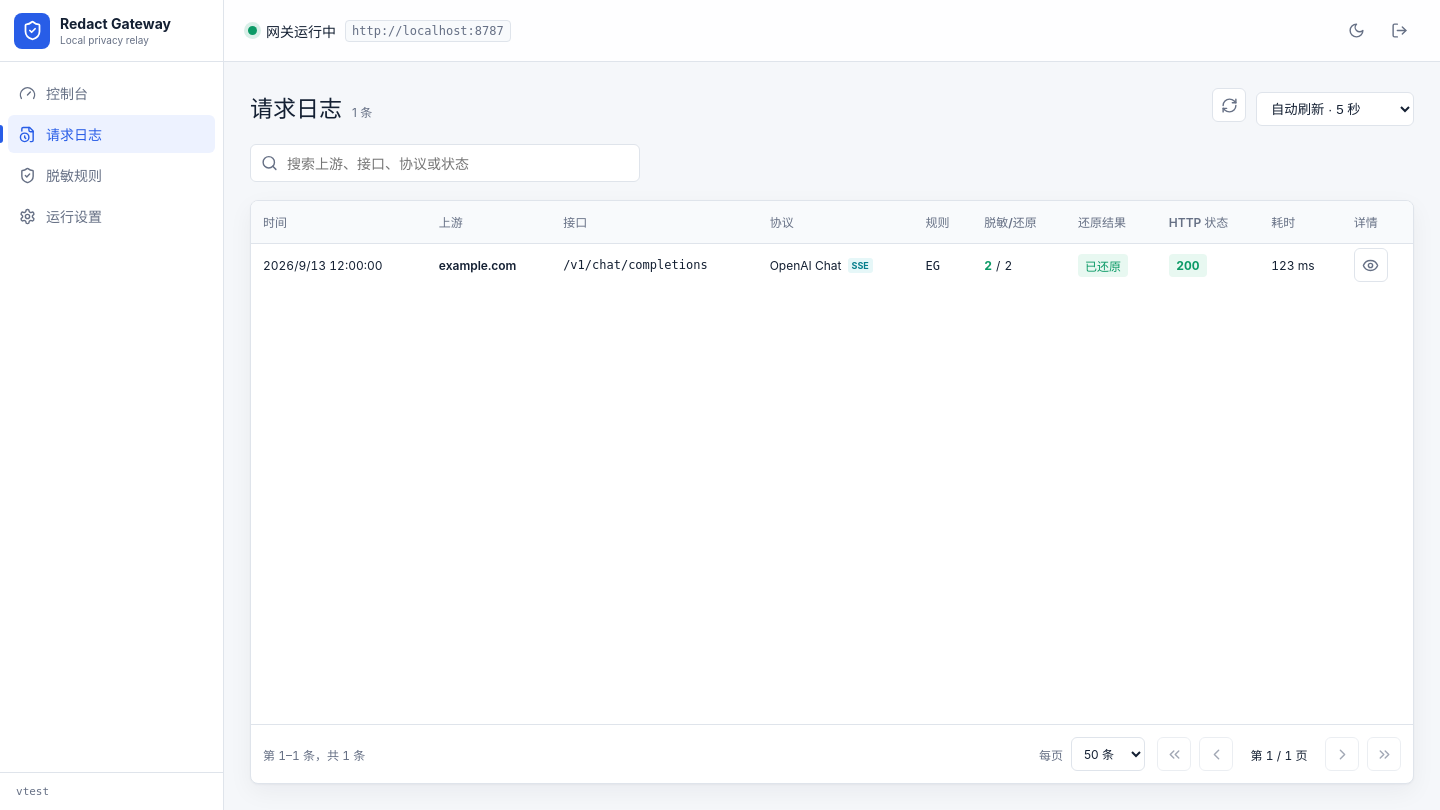
Scenario: App › explains missing field paths on legacy records
Click the button named "查看请求 request-one 的详情": (1371, 265) [1354, 248, 1388, 282]
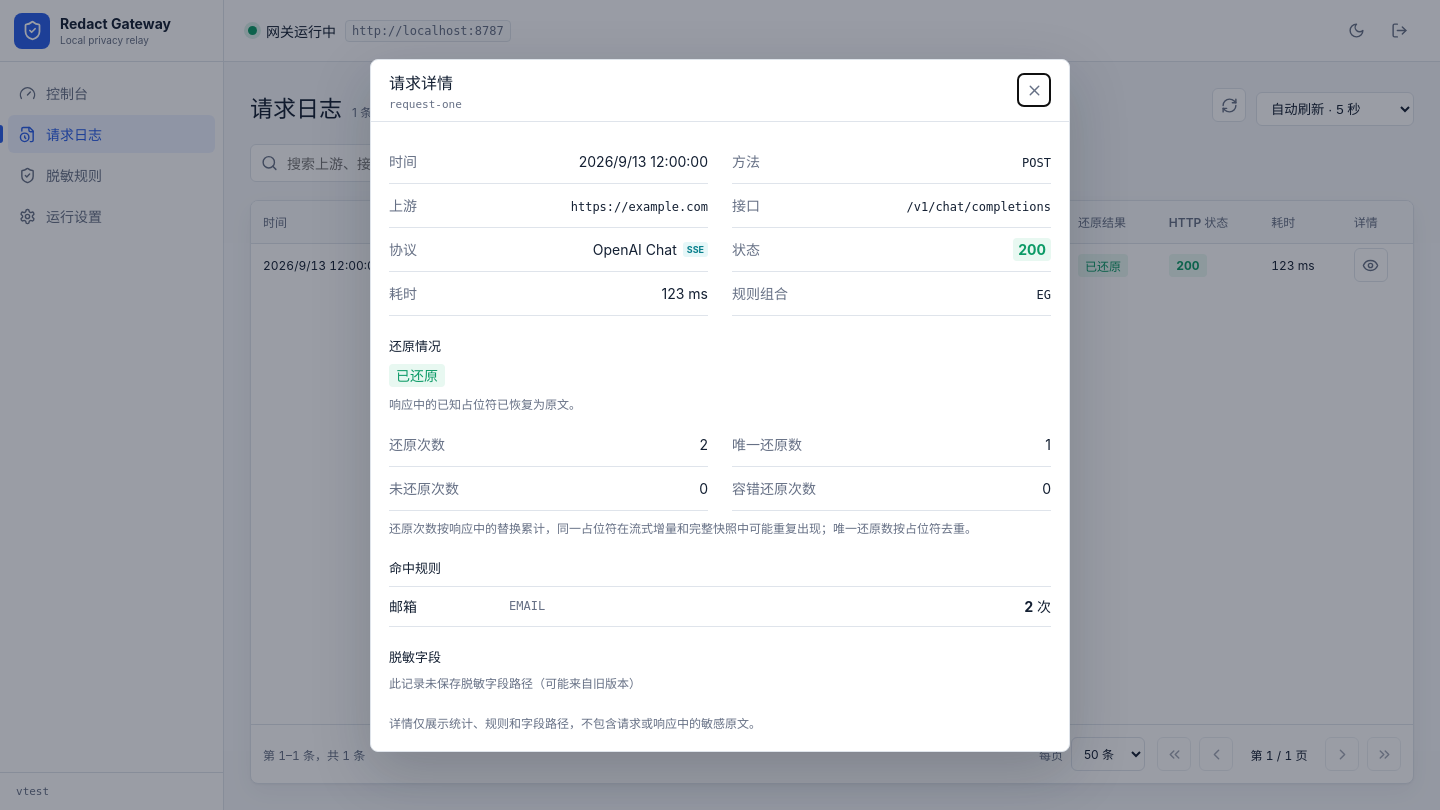
Result: the text "此记录未保存脱敏字段路径（可能来自旧版本）" is shown at [389, 676, 641, 690]
